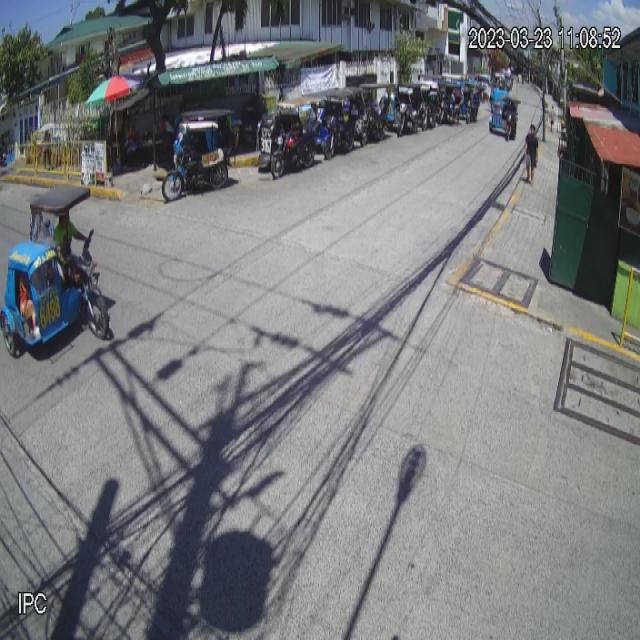Tricycle: (1, 184, 115, 360)
